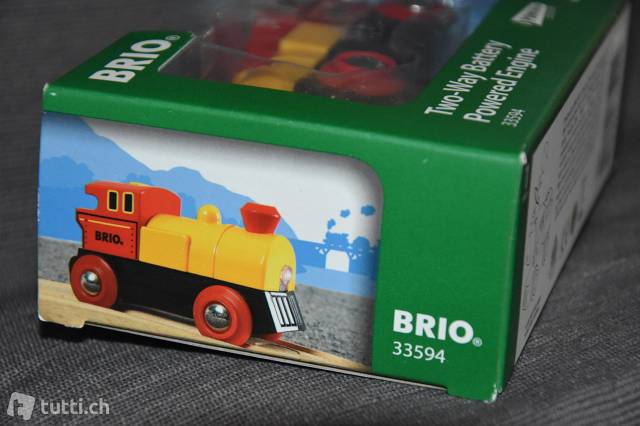brio: (69, 179, 311, 341)
